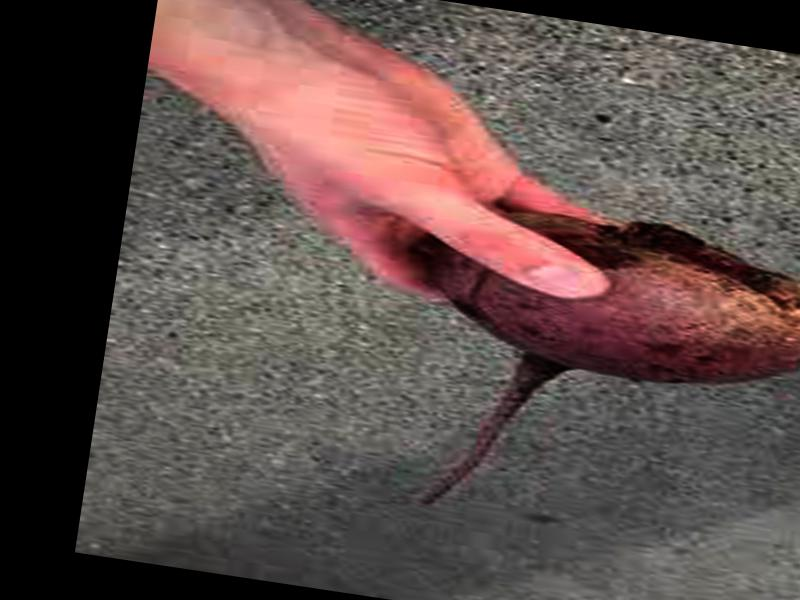Beet: (405, 193, 800, 560)
